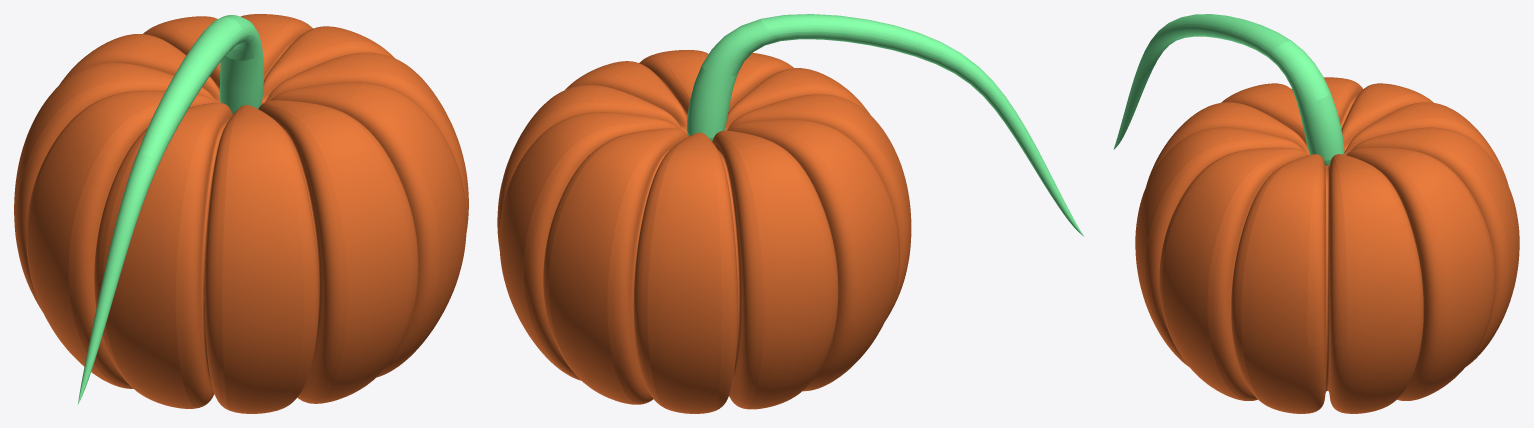
3 views of the same model, side by side, from view 1: azimuth 30°, elevation 25°; view 2: azimuth 150°, elevation 25°; view 3: azimuth 270°, elevation 25° (orthographic). The views are drawn at different scales.
Parts seen in each view (by area): view 1: pCylinder2; view 2: pCylinder2; view 3: pCylinder2.
Boxes of the visible parts, x1,y1,x2,y2 form: pCylinder2: (14,14,468,413); pCylinder2: (497,14,1083,413); pCylinder2: (1113,14,1519,413).
Size of the model in its own units: 112 by 80.87 by 95.83.
